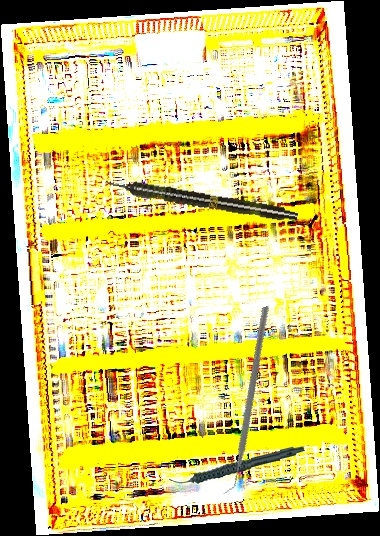Chopper: (160, 305, 328, 496)
Handpiece: (104, 174, 299, 225), (168, 445, 306, 486)
